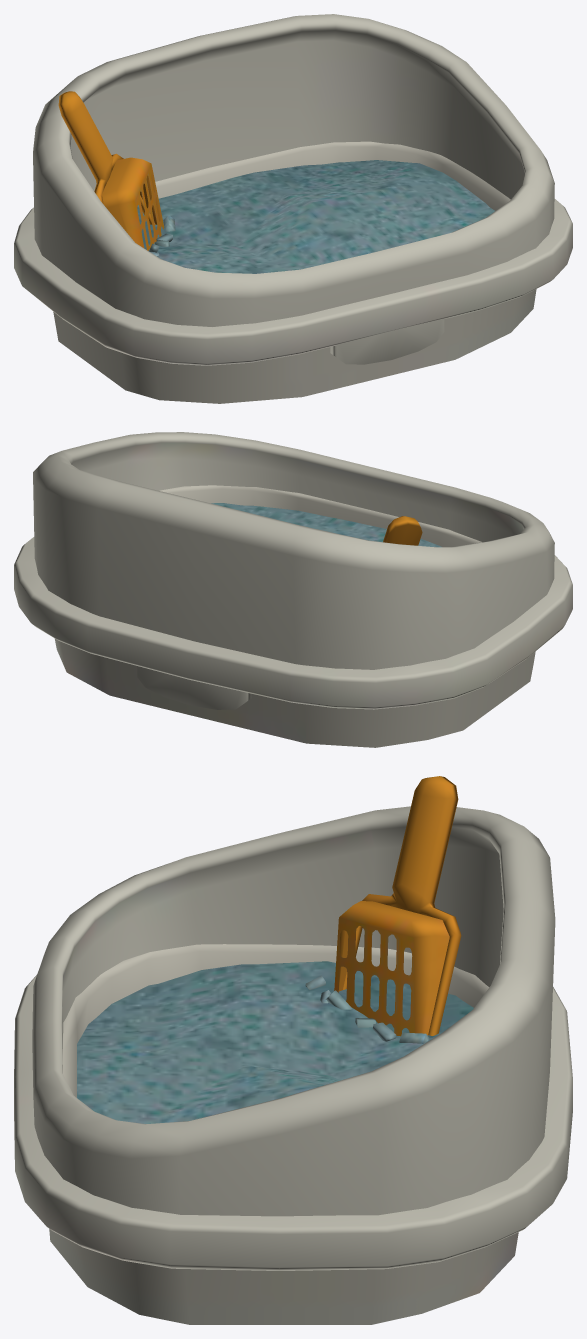
The picture shows the model from 3 angles, top to bottom: view 1: azimuth 30°, elevation 25°; view 2: azimuth 150°, elevation 25°; view 3: azimuth 270°, elevation 25°; orthographic projection. The views are drawn at different scales.
Bounding box in the file's own units: 8.58 × 3.88 × 6.51.
Materials: 1 (1 with a texture image).
